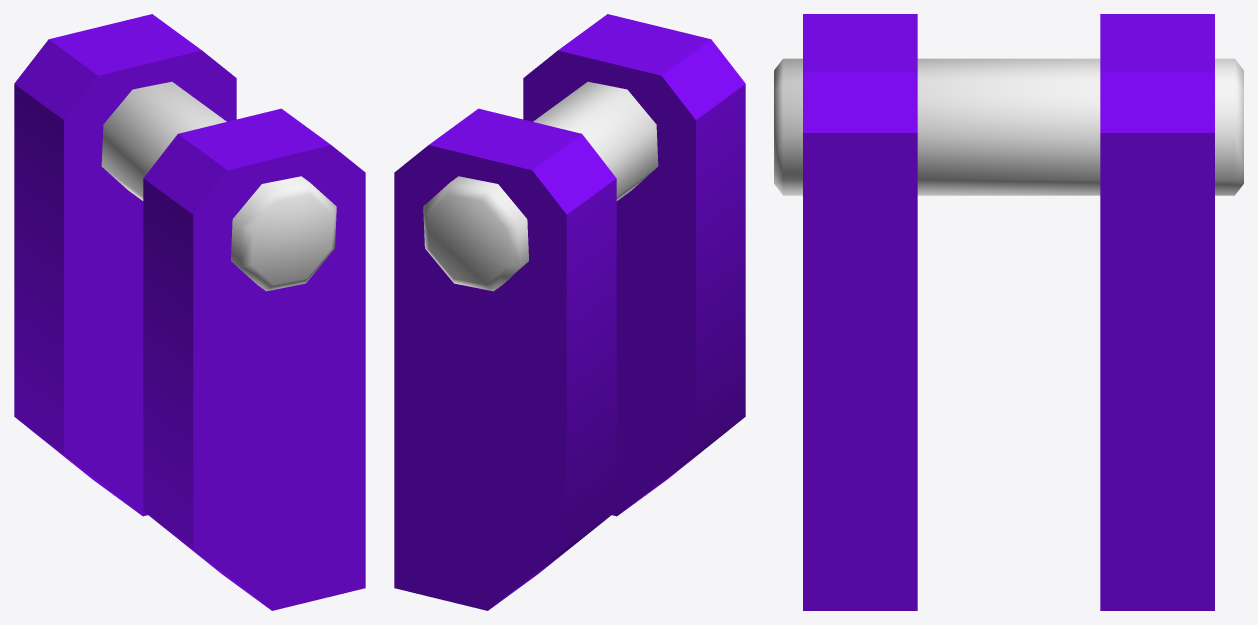
The model's file is Ground_Hammer_Socket_01.fbx.
3 renders of one model, left to right at view 1: azimuth 30°, elevation 25°; view 2: azimuth 150°, elevation 25°; view 3: azimuth 270°, elevation 25°, orthographic. The views are drawn at different scales.
Parts seen in each view (by area): view 1: Obstacle_Ground_Hammer_Socket_01; view 2: Obstacle_Ground_Hammer_Socket_01; view 3: Obstacle_Ground_Hammer_Socket_01.
Boxes of the visible parts, bbox=[...] form: Obstacle_Ground_Hammer_Socket_01: bbox=[14, 14, 365, 610]; Obstacle_Ground_Hammer_Socket_01: bbox=[394, 14, 745, 610]; Obstacle_Ground_Hammer_Socket_01: bbox=[774, 14, 1243, 610].
Size of the model in its own units: 50 by 125 by 102.
Materials: 1 (1 with a texture image).
